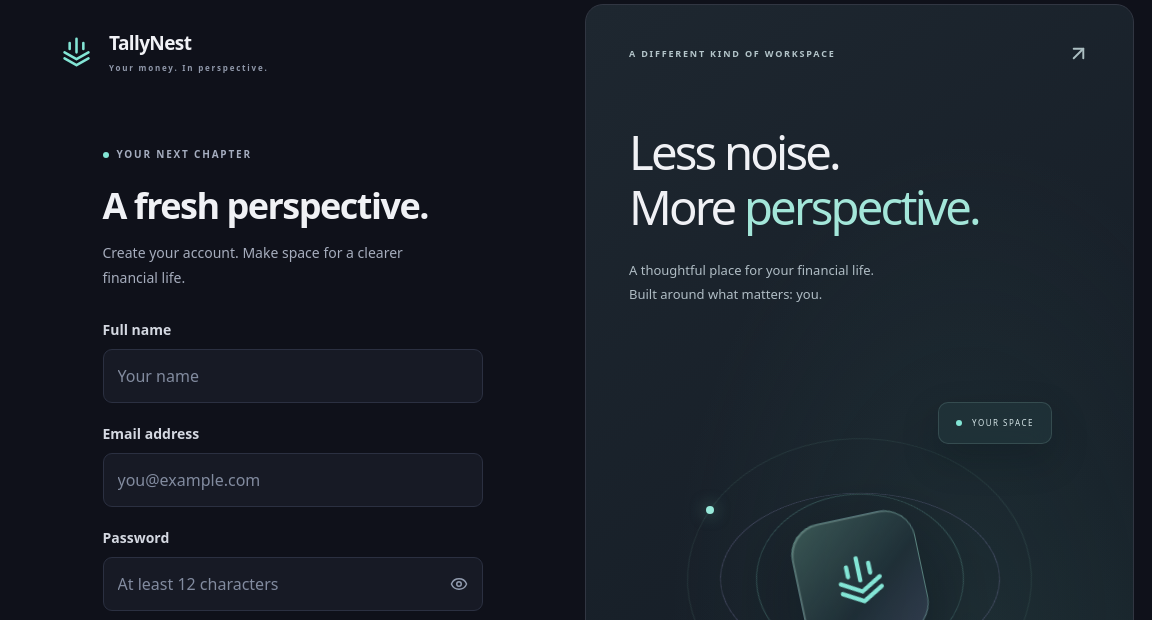
Test: authentication screens and protected routes › shows duplicate registration errors clearly
Type "Alex Rivera" into the field labelled "Full name".
click(292, 376); type("Alex Rivera")  # box [104,350,482,402]
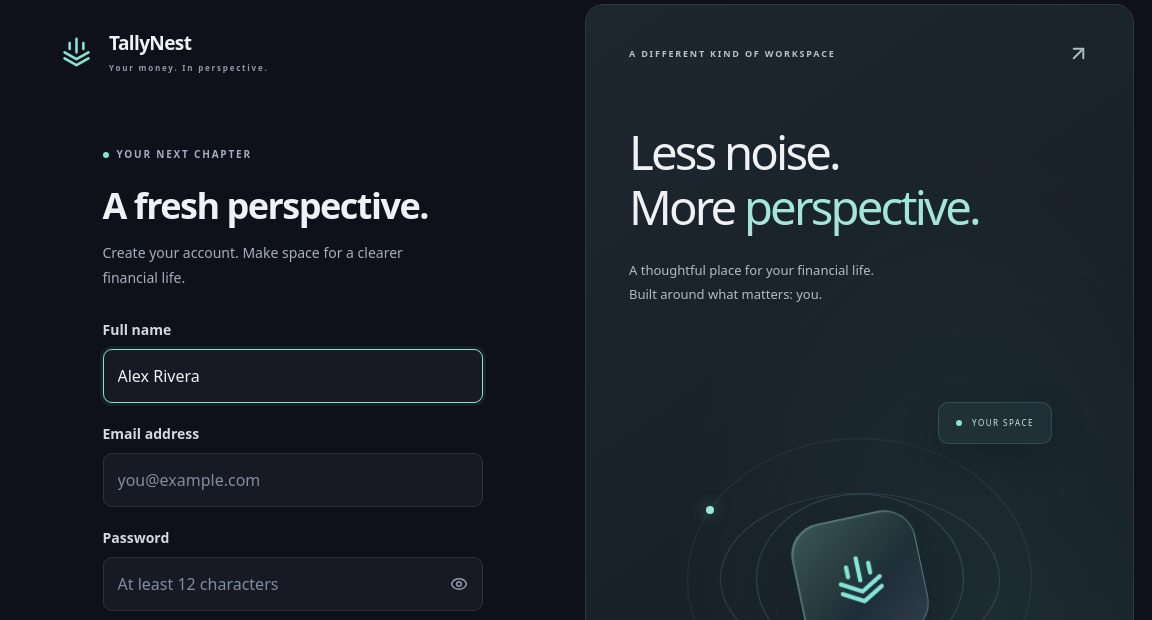
Type "alex@example.com" into the field labelled "Email address".
click(292, 480); type("alex@example.com")  # box [104,454,482,506]
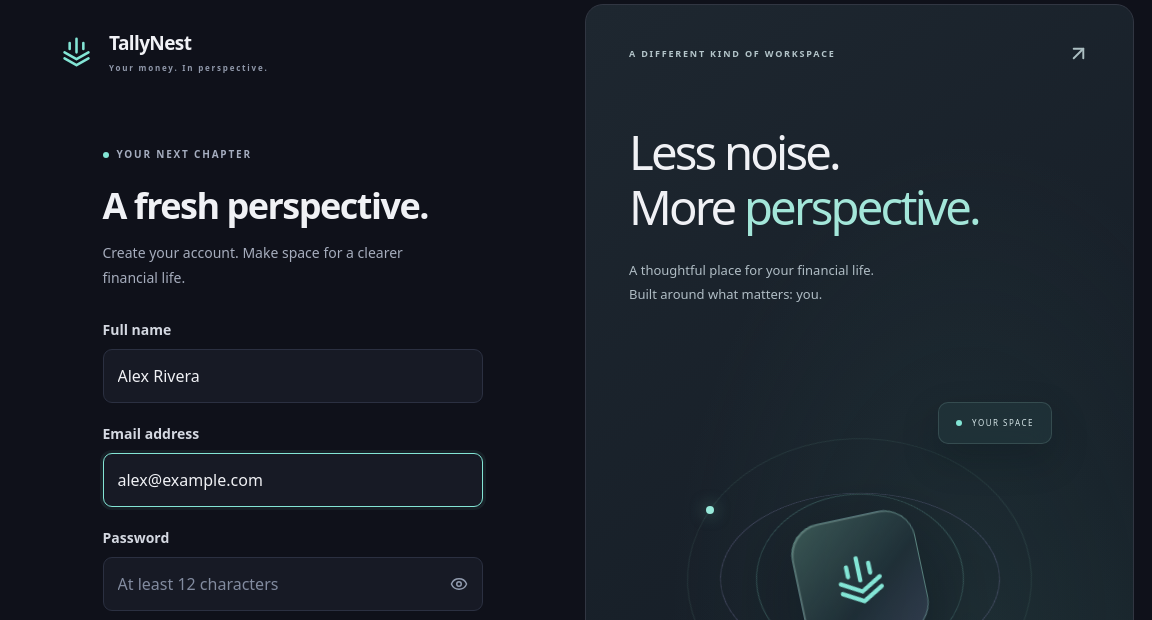
Type "correct horse battery" into the password field labelled "Password".
click(270, 584); type("correct horse battery")  # box [104,558,438,610]
(page scrolled)
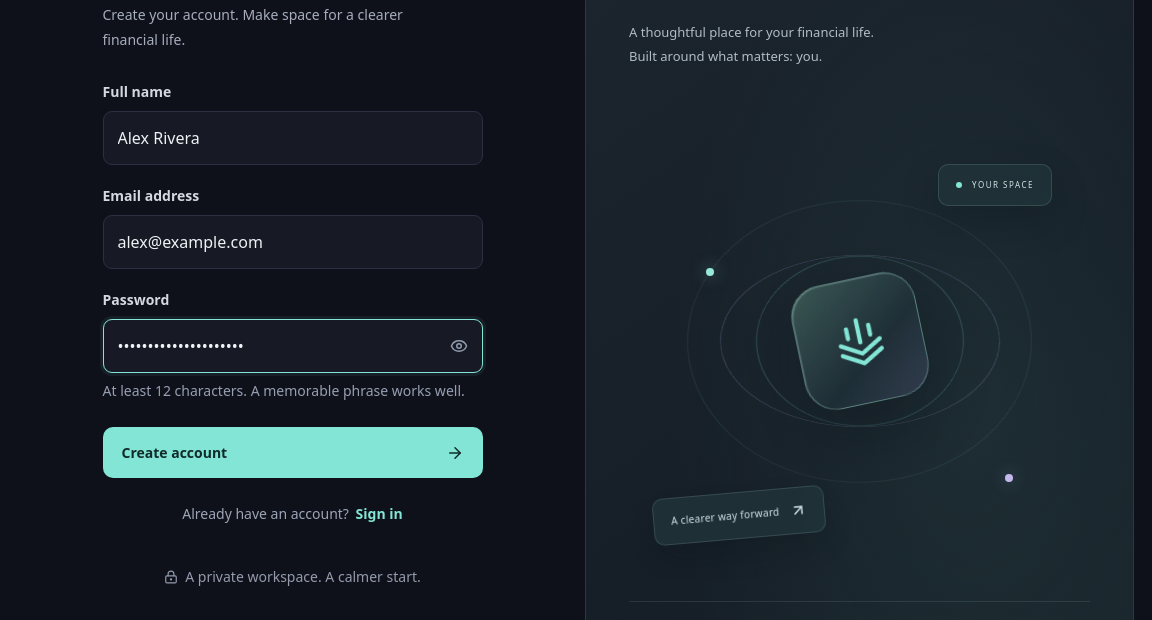
Click the button "Create account".
click(174, 453)  # box [102,428,482,478]
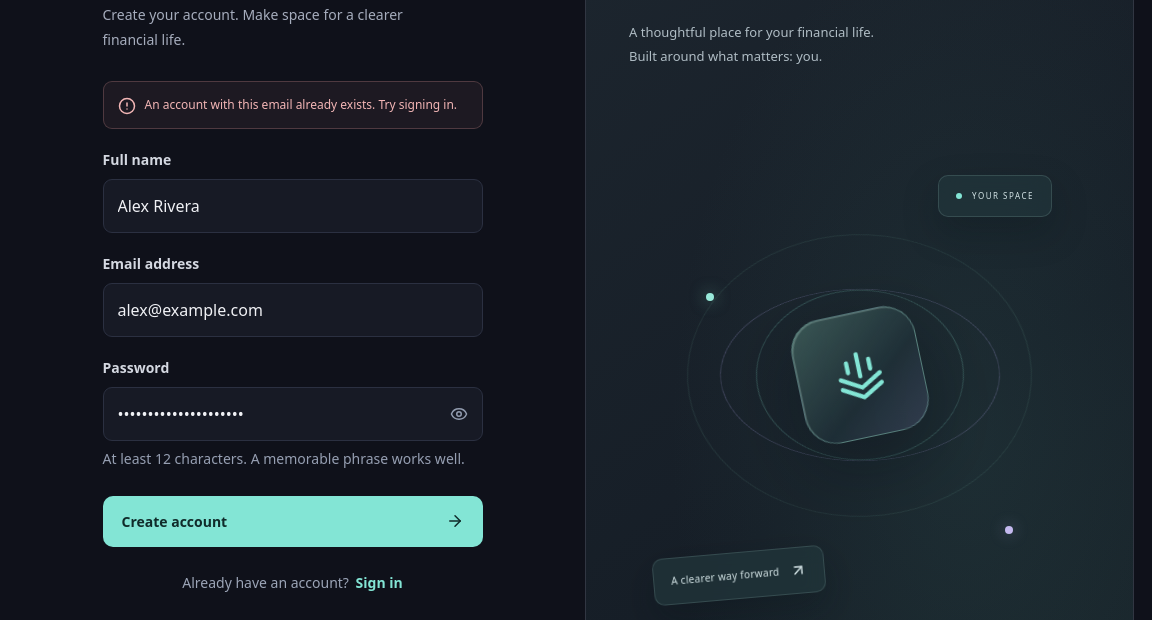
Result: the message shows "An account with this email already exists." at [144,96,457,113]
